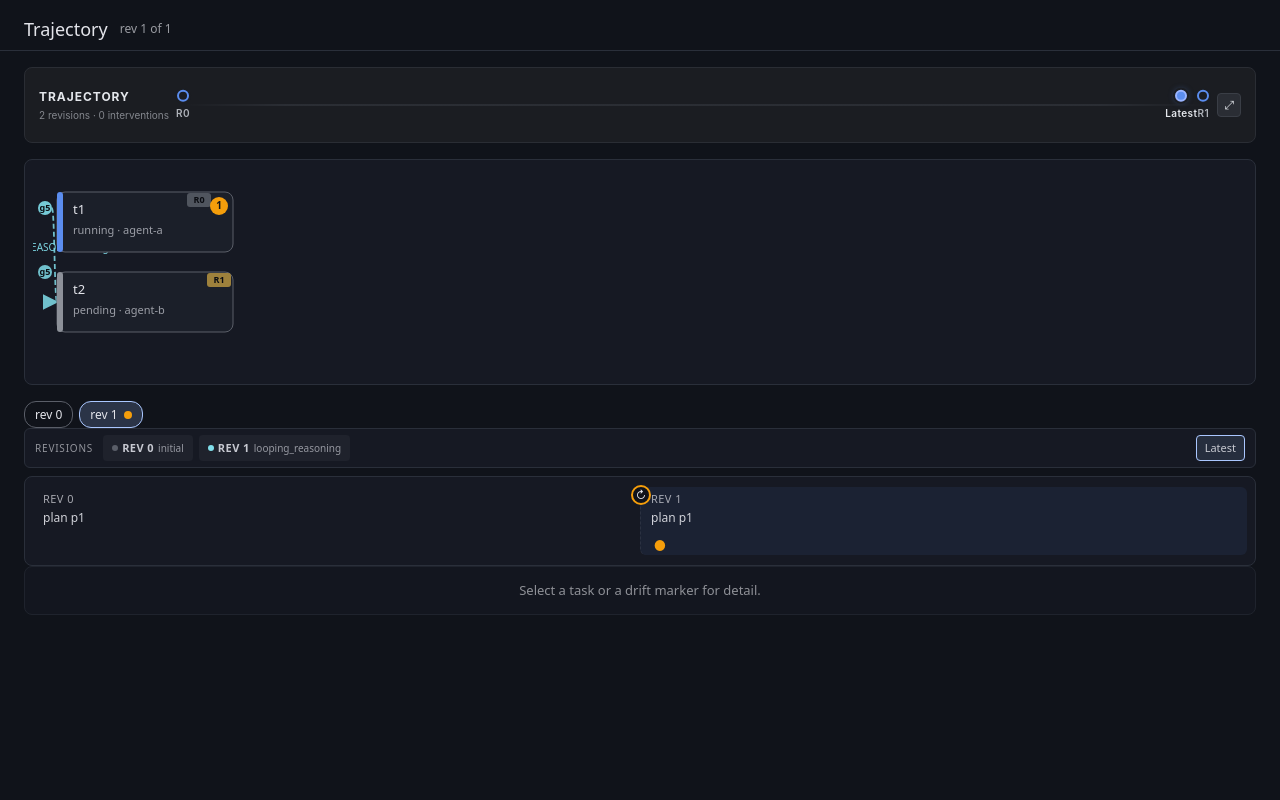
Test: <TrajectoryView /> steering arrow + user gutter + detail panel › legacy intervention detail panel composes Steering from a matching PlanRevised
Click the button with test id "^drift-marker-".
click(660, 546)  # box left=651, top=537, right=669, bottom=555
(page scrolled)
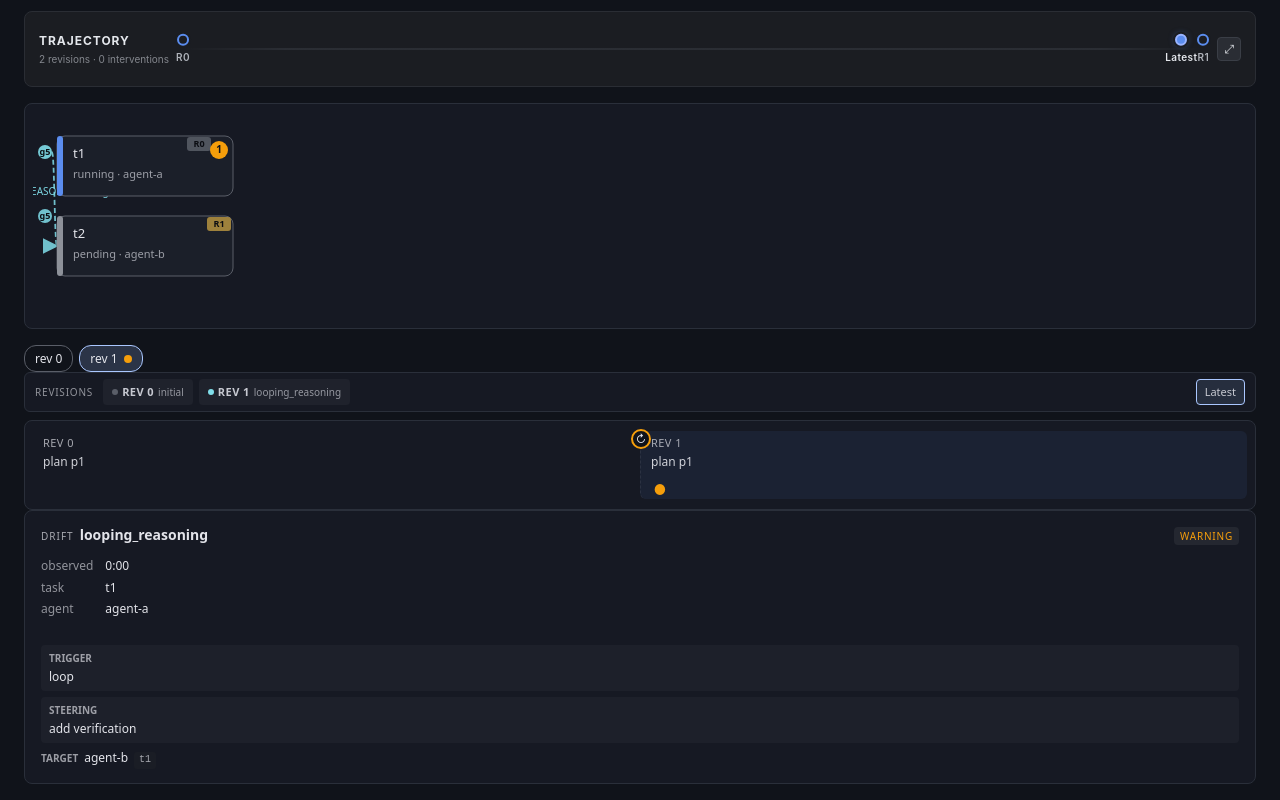
Now the element with test id "detail-drift-steering" shows "add verification", box left=49, top=720, right=136, bottom=737
Now the element with test id "detail-drift-target" shows "agent-b", box left=84, top=749, right=128, bottom=766
